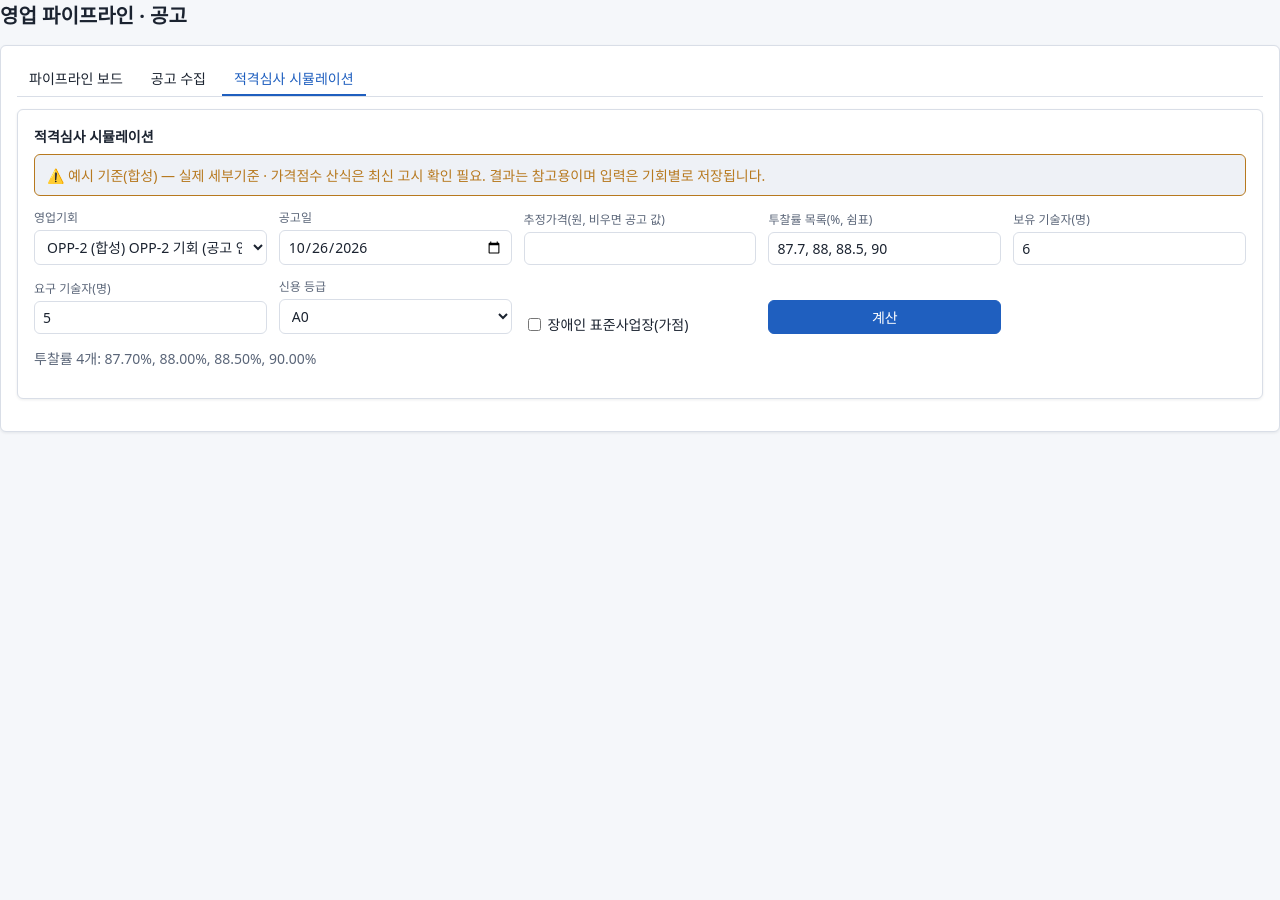
Scenario: 적격심사 시뮬레이션 › 입력 → 기존 /simulations API, 항목별 점수 · 시나리오 판정 표시
Expected: the dropdown named "시뮬레이션 기회" shows "OPP-2 (합성) OPP-2 기회 (공고 연결)", [34, 230, 267, 265]
Replace the text in the field labelled "투찰률 목록" with "87.7, 88, 90": (885, 248) [768, 232, 1001, 265]
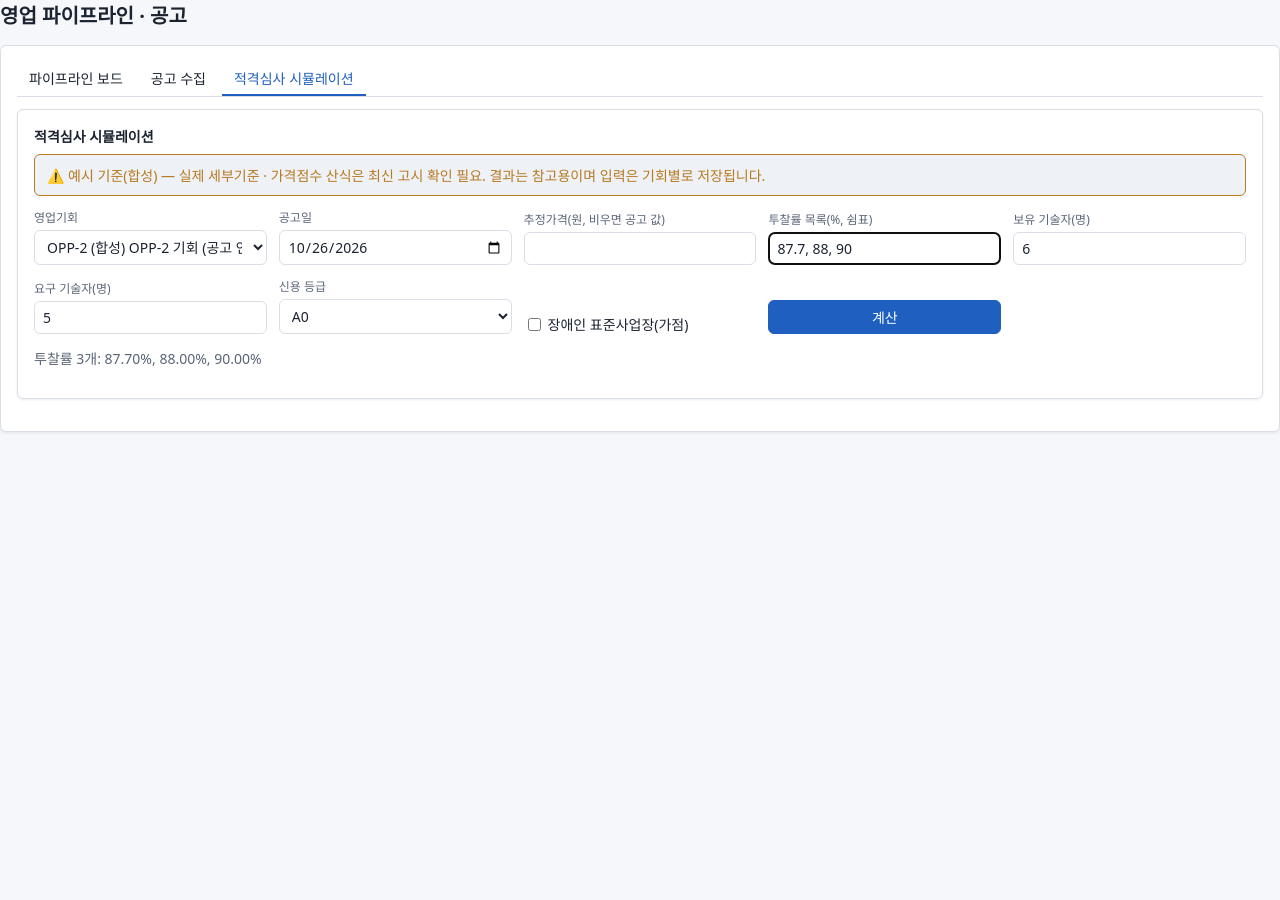
Click the button with test id "sim-run": (885, 317) [768, 300, 1001, 334]
(page scrolled)
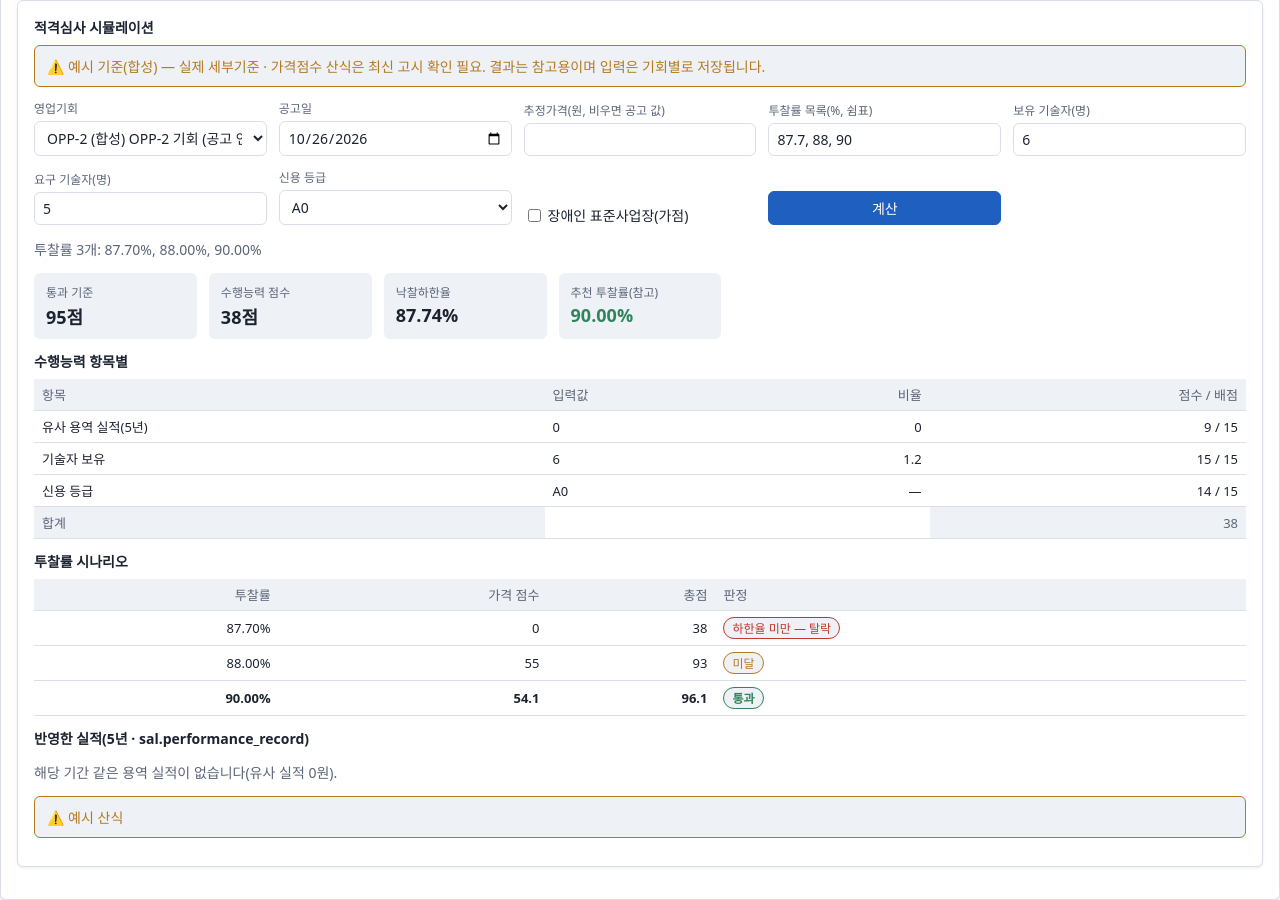
Expected: the text "유사 용역 실적(5년)" is shown, [34, 410, 544, 442]
Expected: the text "하한율 미만 — 탈락" is shown, [724, 617, 840, 639]
Expected: the text "통과" is shown, [724, 687, 764, 709]
